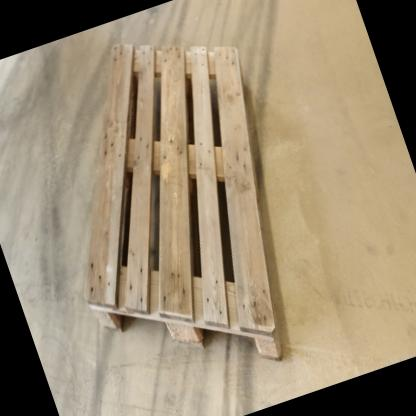BoxFace: (79, 40, 289, 369)
